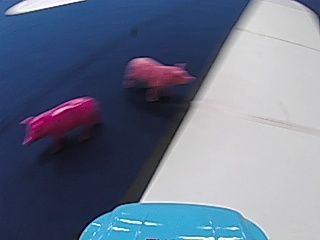pig: (16, 91, 106, 149), (122, 52, 197, 99)
